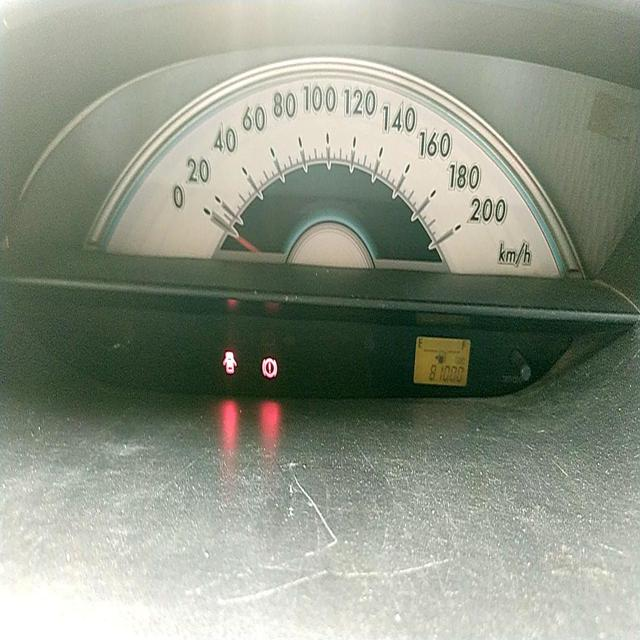odometer: (426, 360, 466, 385)
